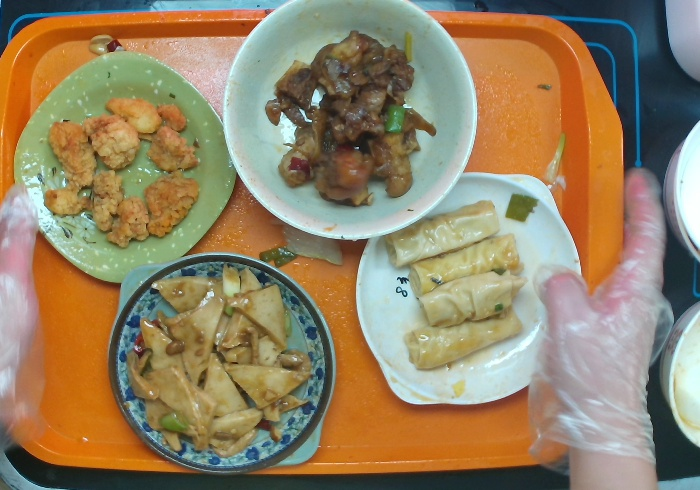NLDX-Bai_Se_Shuang_Er_Die: (350, 166, 590, 420)
NLDX-Bai_Se_Yuan_Wan: (218, 1, 481, 242)
NLDX-Lv_Hua_Fang_Die: (10, 48, 245, 290)
NLDX-Qing_Hua_Shuang_Er_Die: (101, 246, 340, 478)
